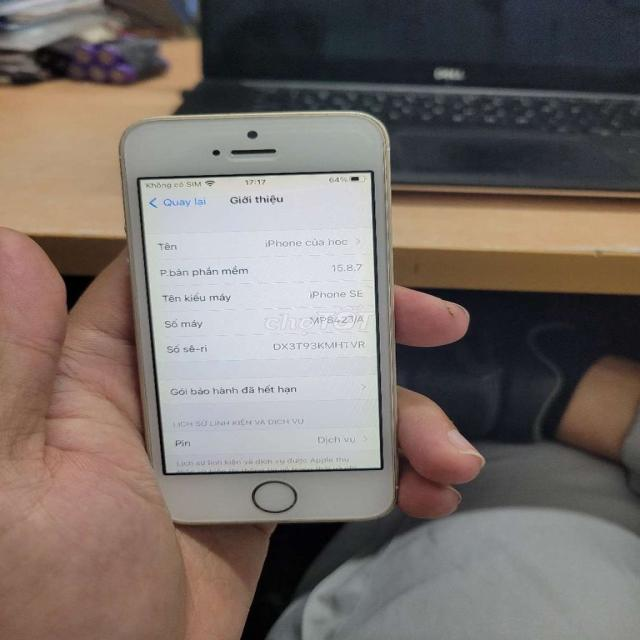gen_6: (120, 110, 398, 524)
